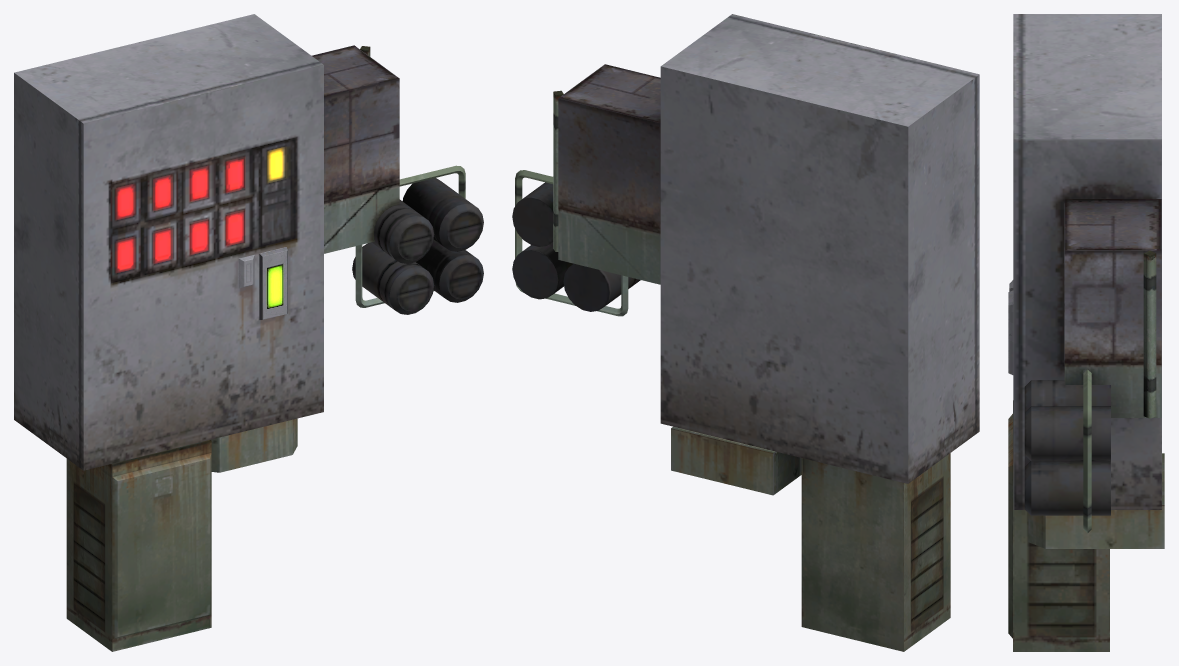
Rendered from fusebox_theta.DAE.
The picture shows the model from 3 angles, left to right: view 1: azimuth 30°, elevation 25°; view 2: azimuth 150°, elevation 25°; view 3: azimuth 270°, elevation 25°; orthographic projection. The views are drawn at different scales.
Parts seen in each view (by area): view 1: fusebox_theta; view 2: fusebox_theta; view 3: fusebox_theta.
Boxes of the visible parts, x1,y1,x2,y2 form: fusebox_theta: [14, 14, 483, 651]; fusebox_theta: [512, 14, 979, 651]; fusebox_theta: [1008, 14, 1164, 651].
Bounding box in the file's own units: 0.6083 × 0.7463 × 0.1849.
